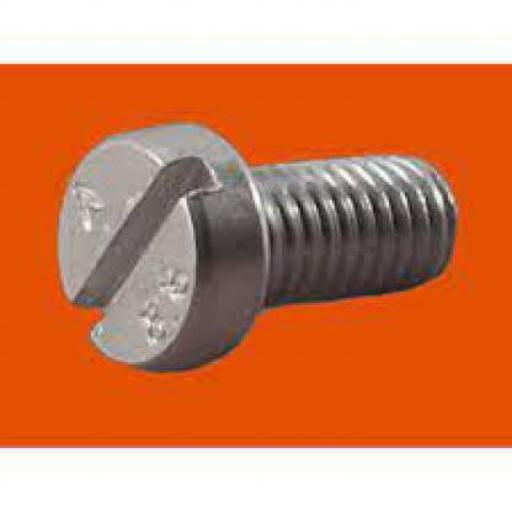Bolt: (58, 120, 459, 373)
